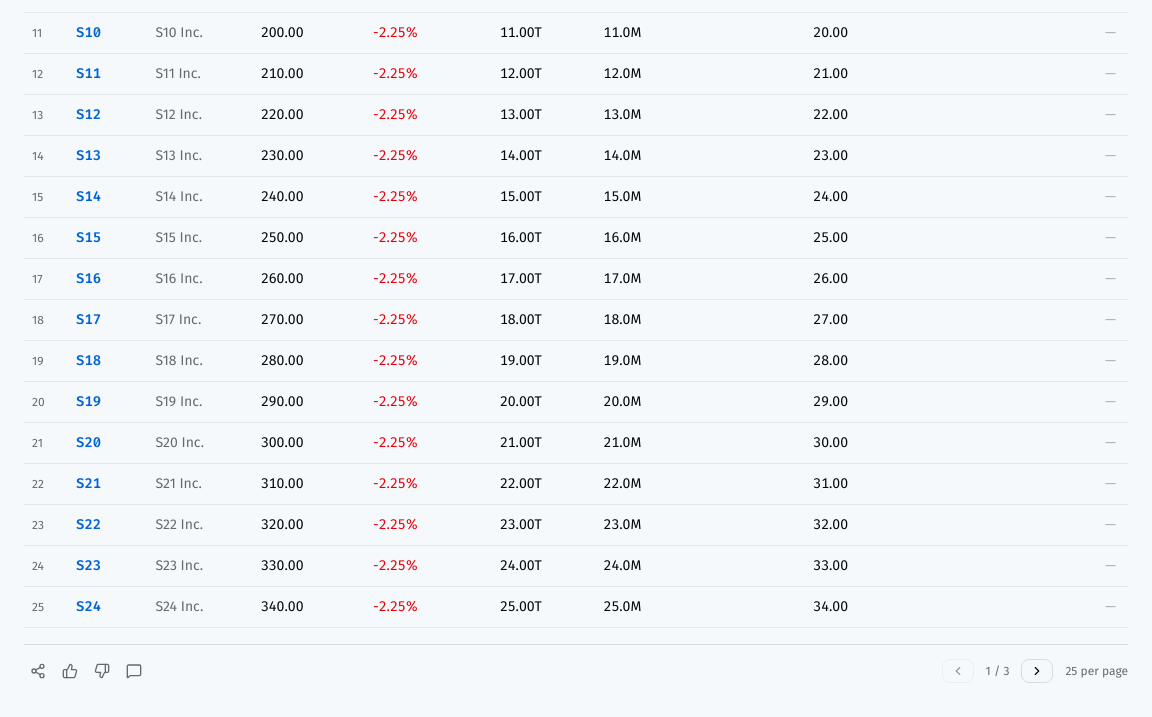
Test case: paging at 25 per screen › returns to page 1 when the sort changes
(page scrolled)
expect the text with test id "page-indicator" reads "1 / 3": met, box [986,664,1009,678]
Click the button named "Next page": [1037, 671] box [1021,659,1053,683]
(page scrolled)
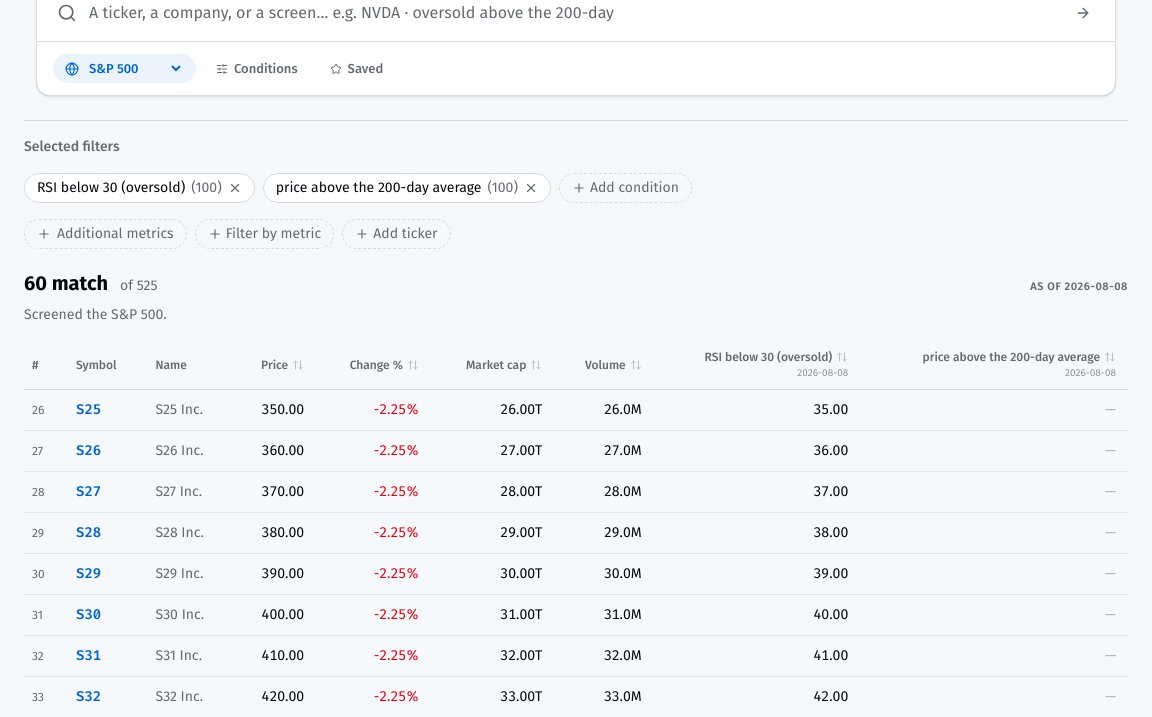
Click the button with test id "sort-rsi": [776, 357] box [704,349,848,365]
(page scrolled)
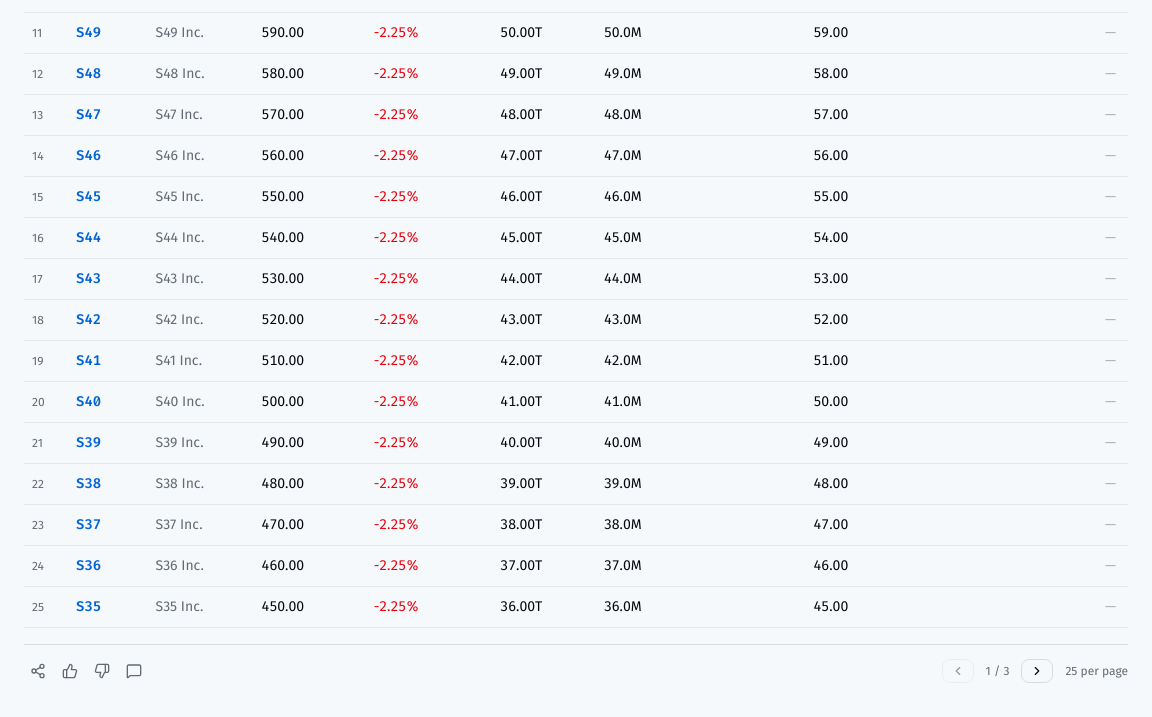
expect the text with test id "page-indicator" reads "1 / 3": met, box [986,664,1009,678]
